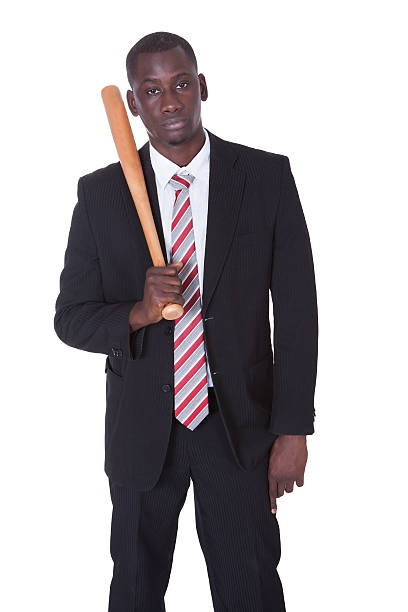bita: (91, 78, 172, 301)
